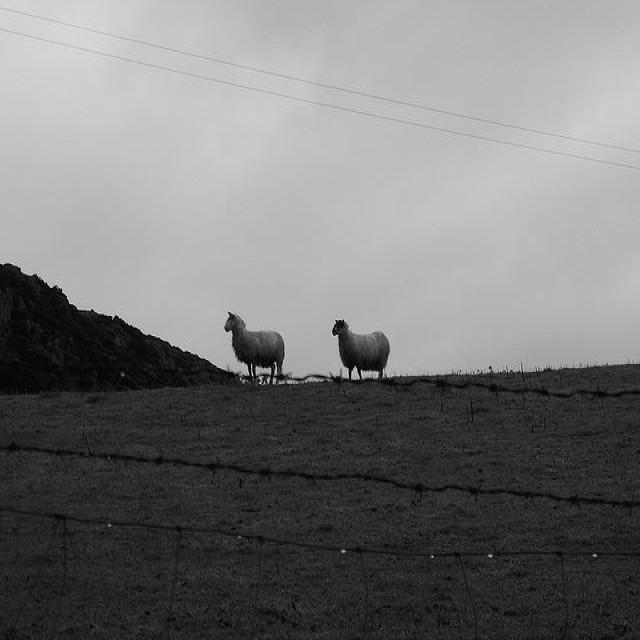Sheep: (225, 310, 286, 386), (333, 319, 391, 380)
